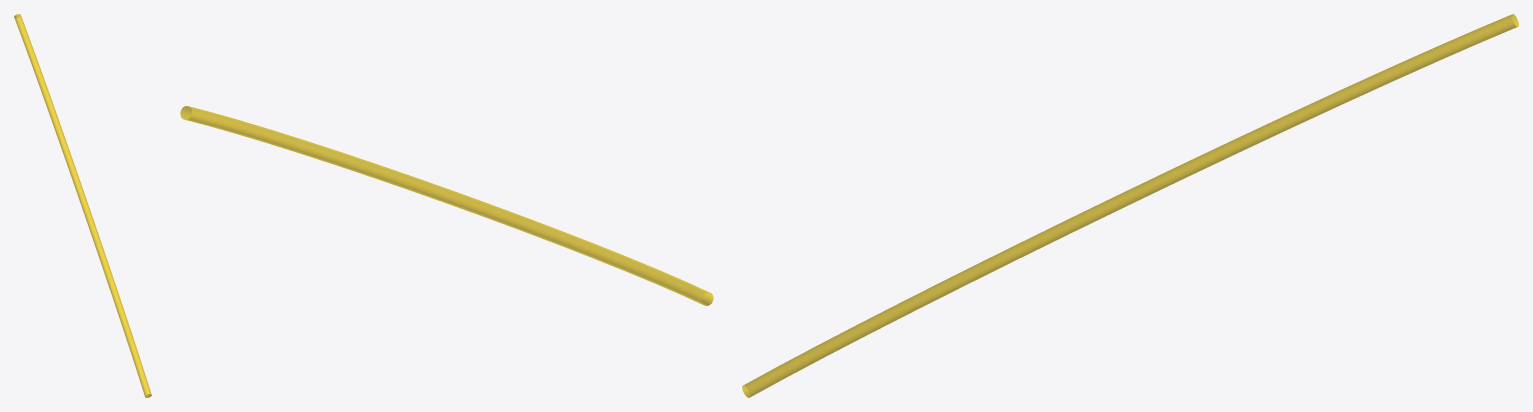
The model's file is Event_75125125_track_10.fbx.
3 views of the same model, side by side, from view 1: azimuth 30°, elevation 25°; view 2: azimuth 150°, elevation 25°; view 3: azimuth 270°, elevation 25° (orthographic). The views are drawn at different scales.
Parts seen in each view (by area): view 1: Model; view 2: Model; view 3: Model.
Boxes of the visible parts, x1,y1,x2,y2 form: Model: (14,14,151,397); Model: (180,106,713,305); Model: (742,14,1518,397).
Size of the model in its own units: 0.4613 by 1.41 by 2.23.
